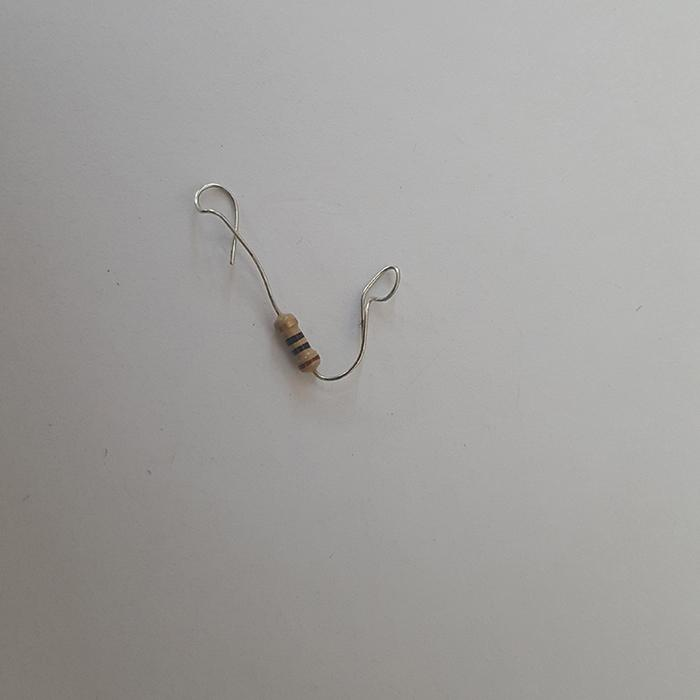resistor: (273, 311, 318, 374)
